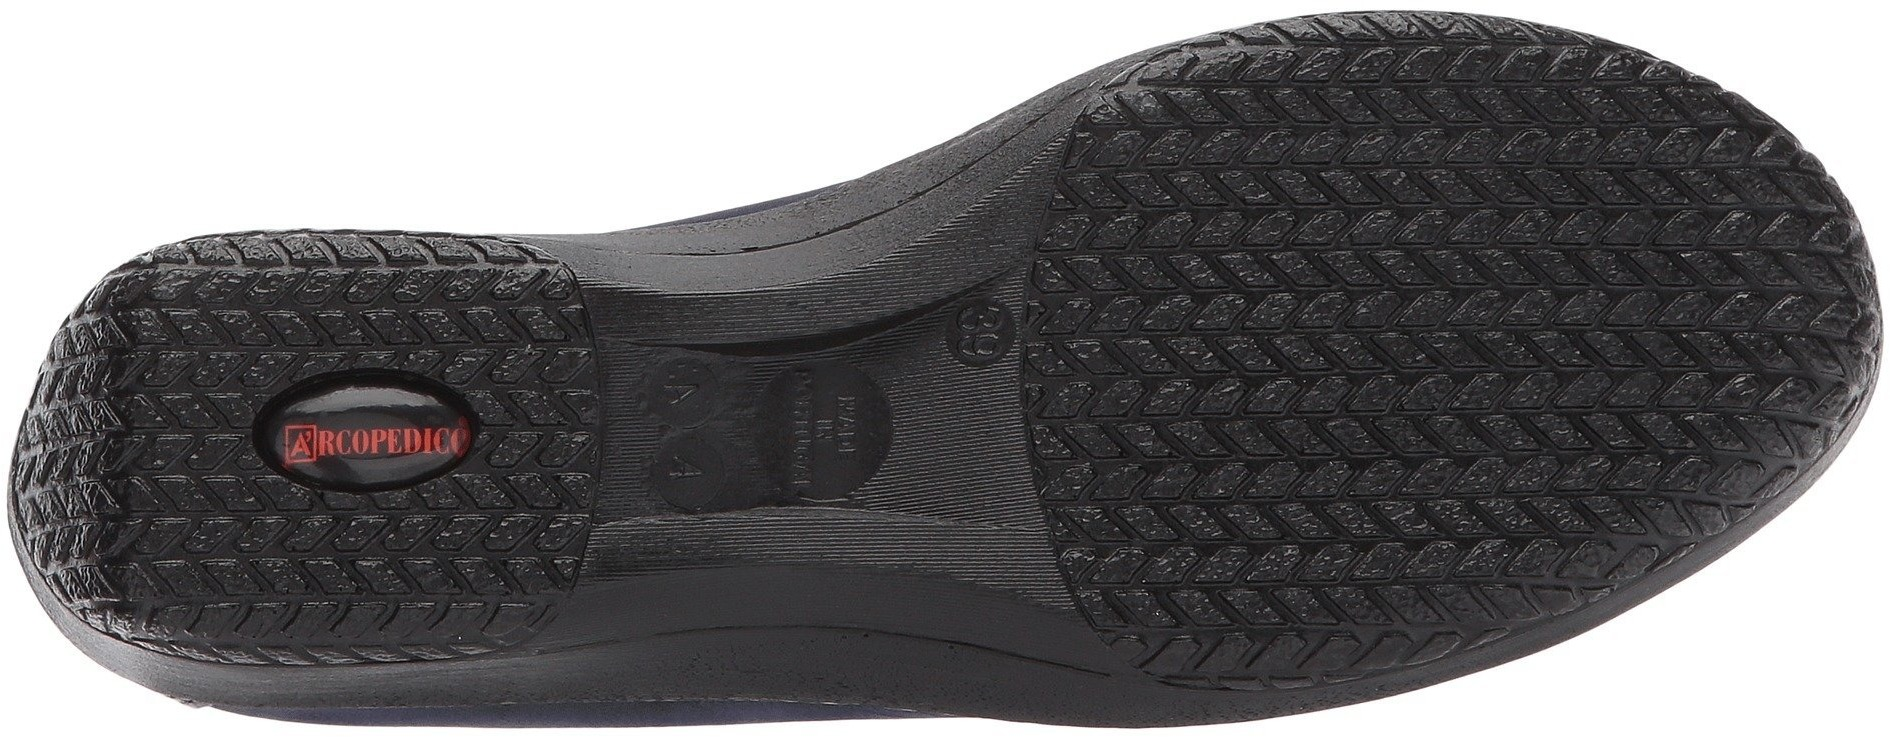circle: (749, 372, 898, 503), (640, 355, 732, 530)
line: (906, 406, 1050, 546), (727, 267, 864, 345), (587, 281, 720, 355), (745, 508, 863, 568), (598, 517, 697, 587), (935, 221, 1005, 293)
quad: (1035, 13, 1882, 678), (23, 244, 605, 648), (1345, 131, 1573, 417), (1103, 159, 1350, 413), (1078, 413, 1338, 631), (1545, 140, 1751, 384), (1172, 22, 1409, 195), (1316, 413, 1522, 602), (311, 230, 510, 372), (117, 300, 268, 473), (284, 490, 435, 645), (127, 481, 271, 634), (1532, 403, 1680, 517), (1424, 34, 1596, 127)
text: (763, 359, 885, 511), (655, 367, 714, 531)
